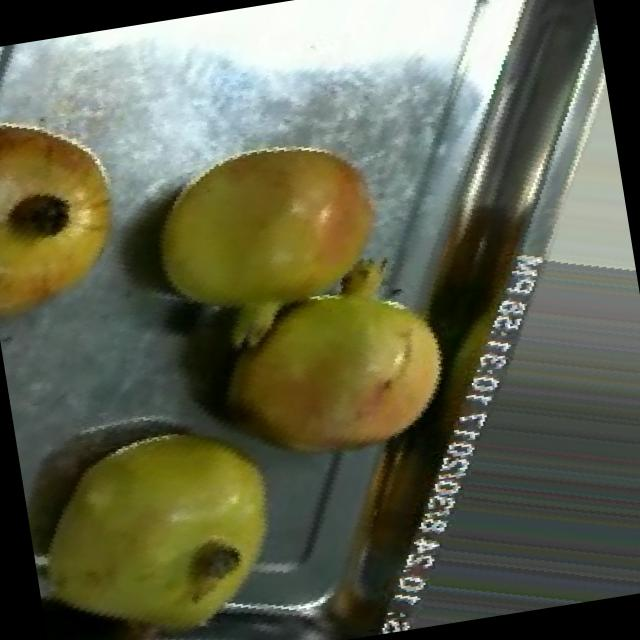fruit: (172, 234, 480, 522), (18, 371, 333, 640), (114, 100, 418, 366), (0, 80, 160, 354)
